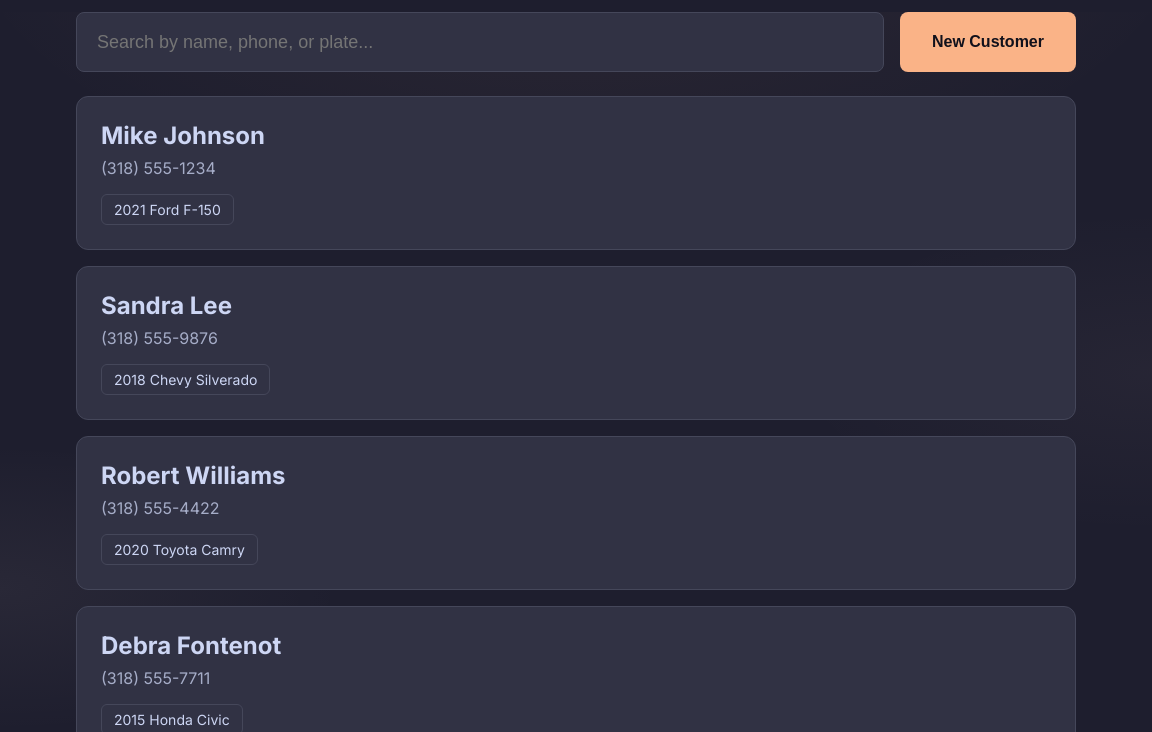
Test: CheckInScreen › filters by phone
Type "555-9876" into the field with placeholder "Search by name, phone, or plate..." at {"x": 480, "y": 42}, box [76, 12, 884, 72]
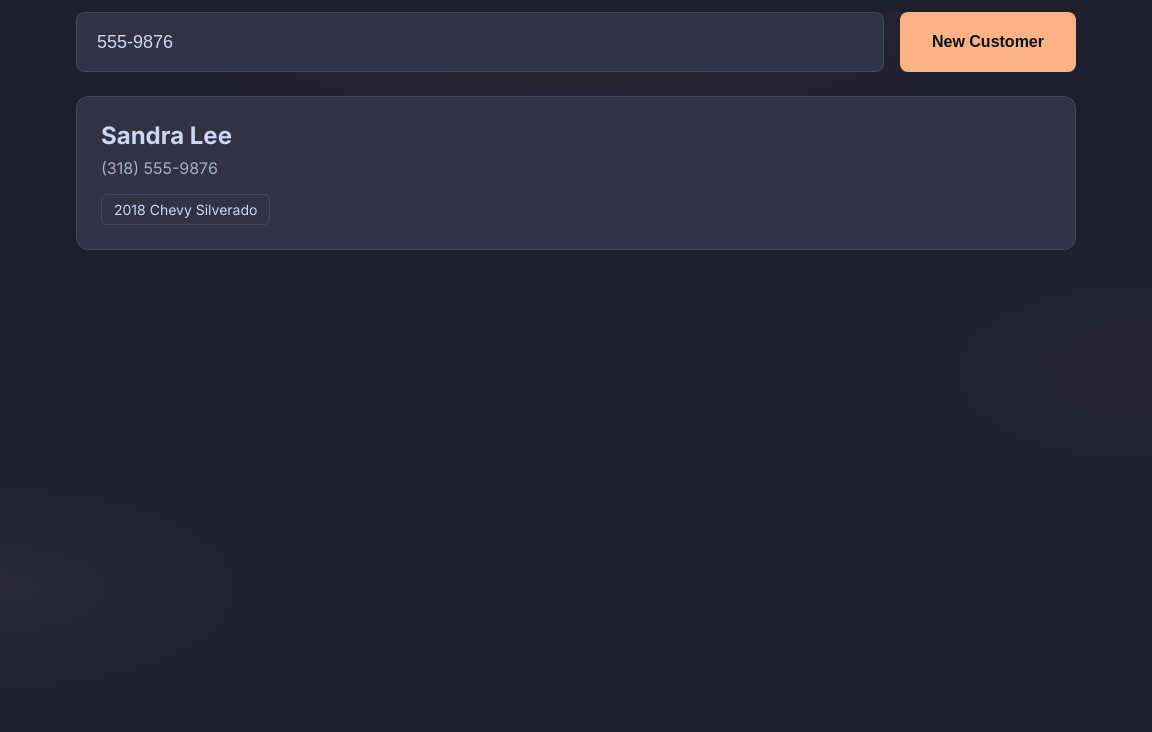
Expected: the text "Mike Johnson" is gone
Expected: the text "Robert Williams" is gone
Expected: the text "Debra Fontenot" is gone
